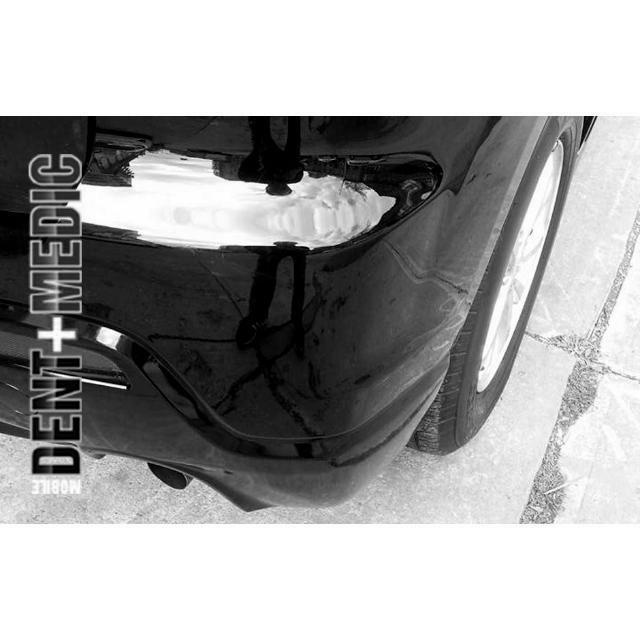rear-bumper-dent: (146, 206, 507, 508)
